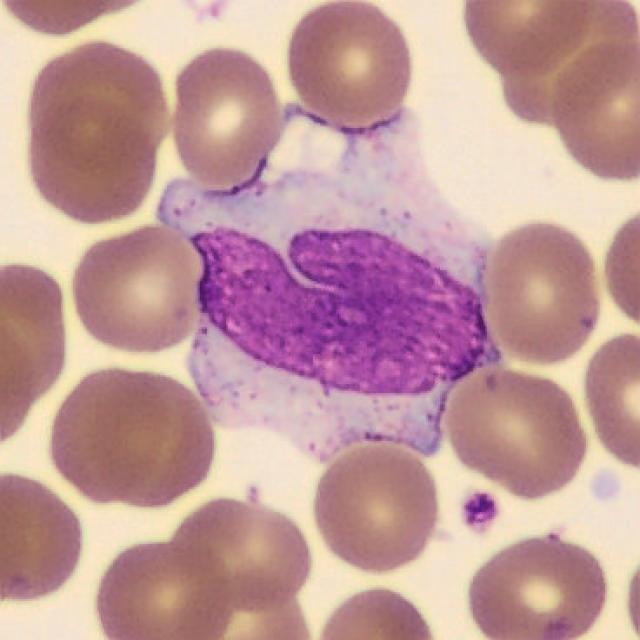Monocito: (155, 105, 499, 462)
